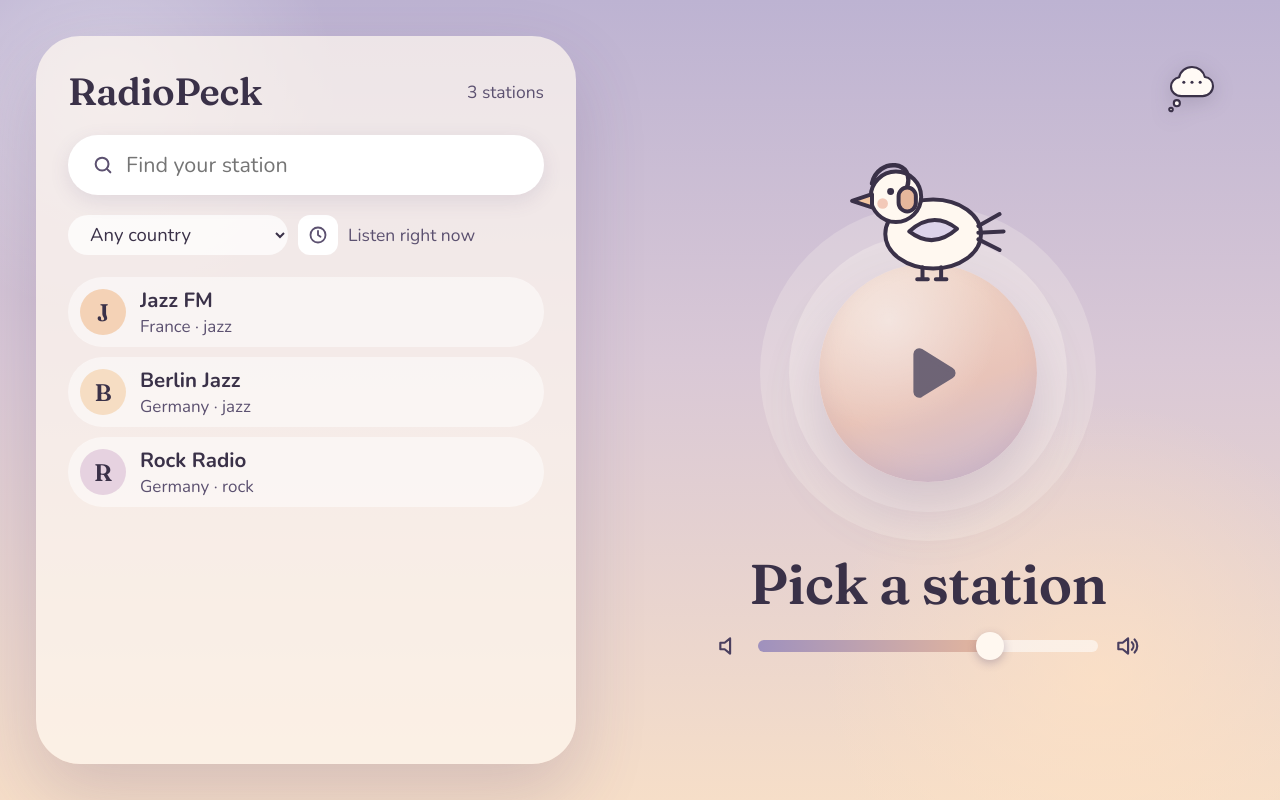
Scenario: App › shows the selected station in the player
Expected: the heading "Pick a station" is shown, 749,553 -> 1107,615
Click the button "R Rock Radio Germany · rock": click(103, 472) 68,437 -> 544,507
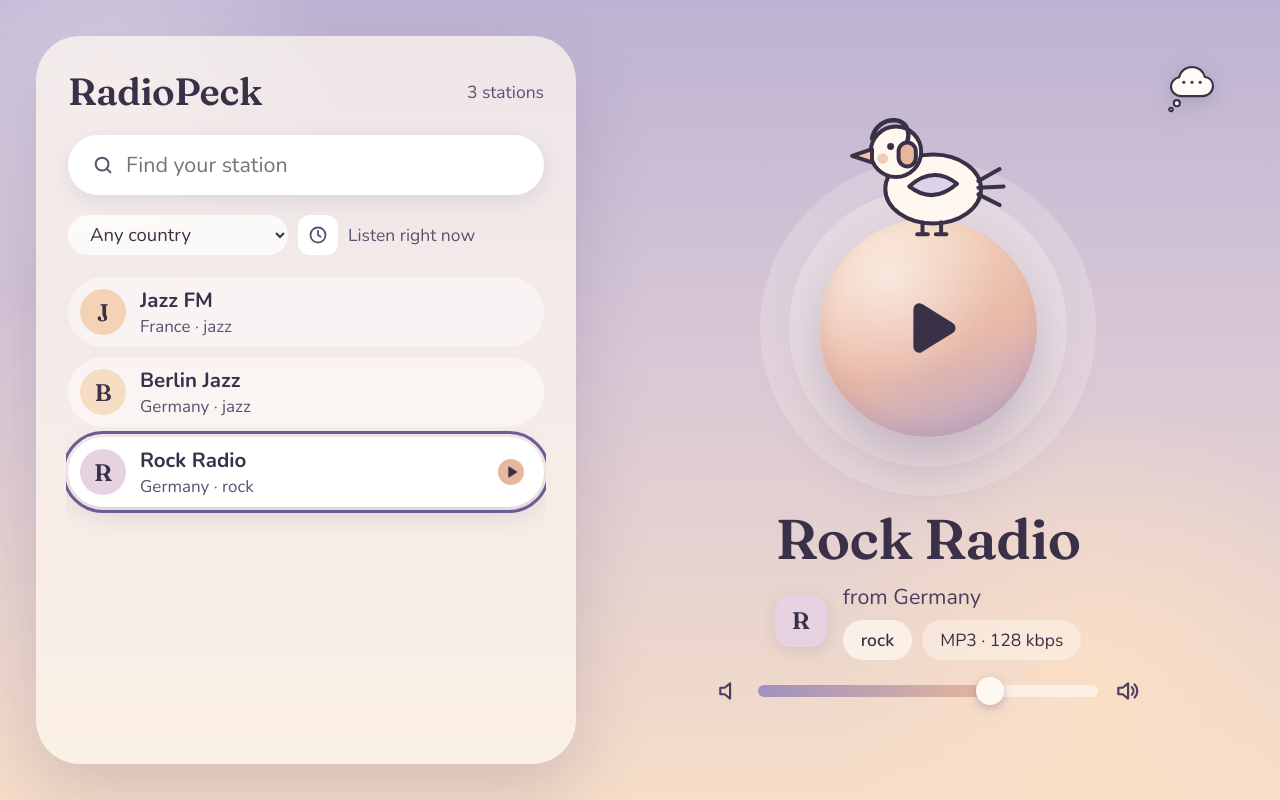
Result: the heading "Rock Radio" is shown at 775,508 -> 1081,570
